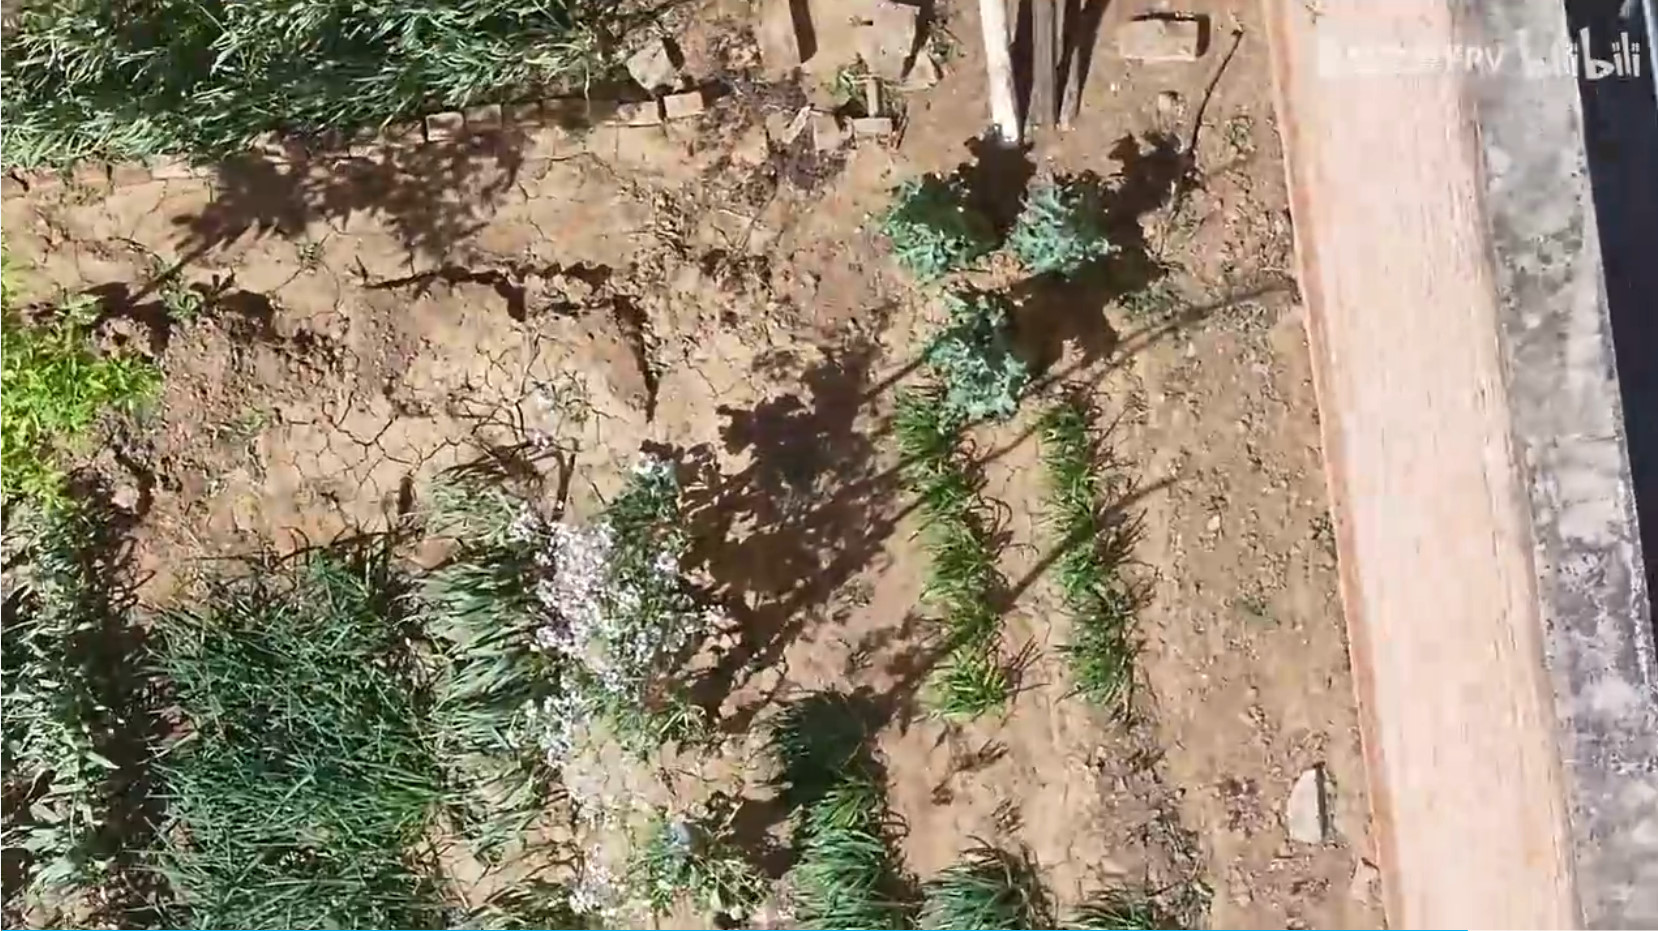Poppy: (916, 289, 1046, 429), (865, 163, 980, 291), (1002, 172, 1123, 285)
